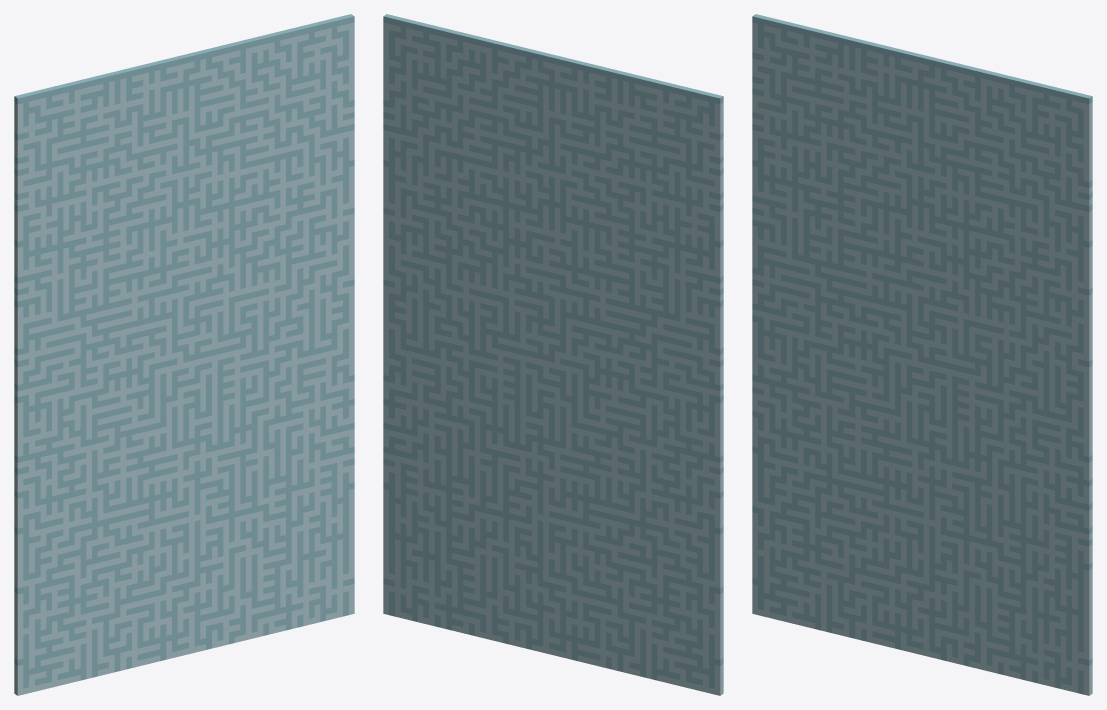
File: wall.obj
3 views of the same model, side by side, from view 1: azimuth 30°, elevation 25°; view 2: azimuth 150°, elevation 25°; view 3: azimuth 330°, elevation 25° (orthographic).
Parts seen in each view (by area): view 1: wall; view 2: wall; view 3: wall.
Part boxes in pixels (box(x1,y1,x2,y2)): wall: box(14, 14, 354, 695); wall: box(383, 14, 723, 695); wall: box(752, 14, 1092, 695).
Size of the model in its own units: 59 by 100 by 1.
1 material, 1 textured.
